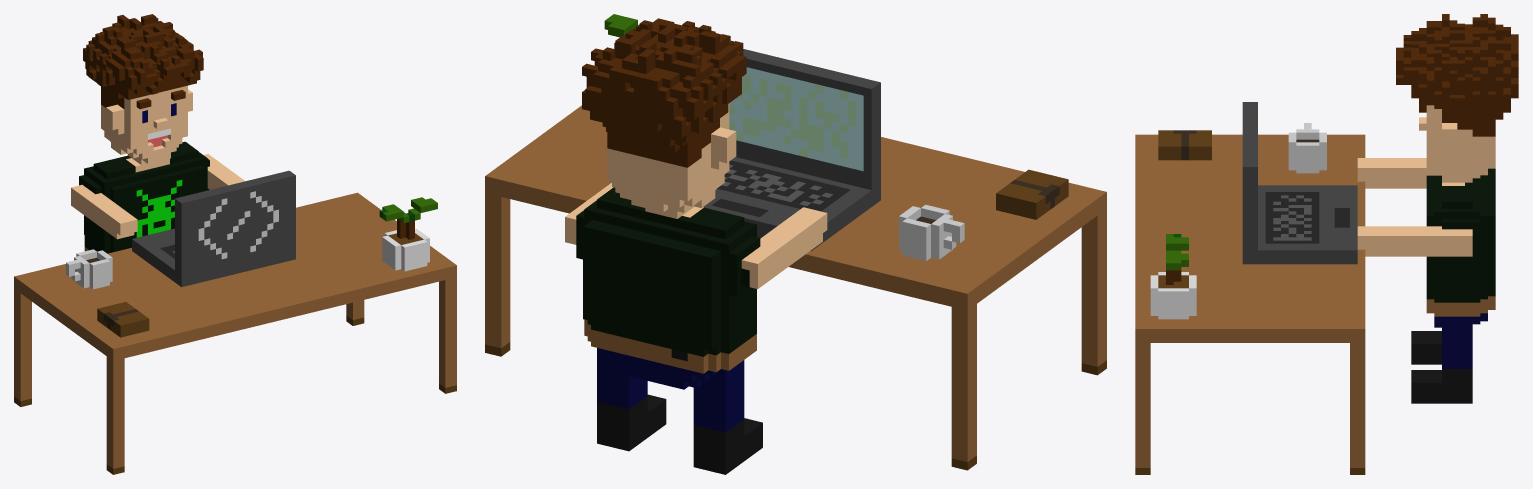
File: sajmon.glb
3 renders of one model, left to right at view 1: azimuth 30°, elevation 25°; view 2: azimuth 150°, elevation 25°; view 3: azimuth 270°, elevation 25°, orthographic. The views are drawn at different scales.
Visible parts, largest first — view 1: ich.002; view 2: ich.002; view 3: ich.002.
Part boxes in pixels (left/top/right/bottom): ich.002: left=14, top=14, right=456, bottom=474; ich.002: left=485, top=14, right=1106, bottom=474; ich.002: left=1135, top=14, right=1518, bottom=474.
Bounding box in the file's own units: 6 × 5 × 5.
1 material, 1 textured.
